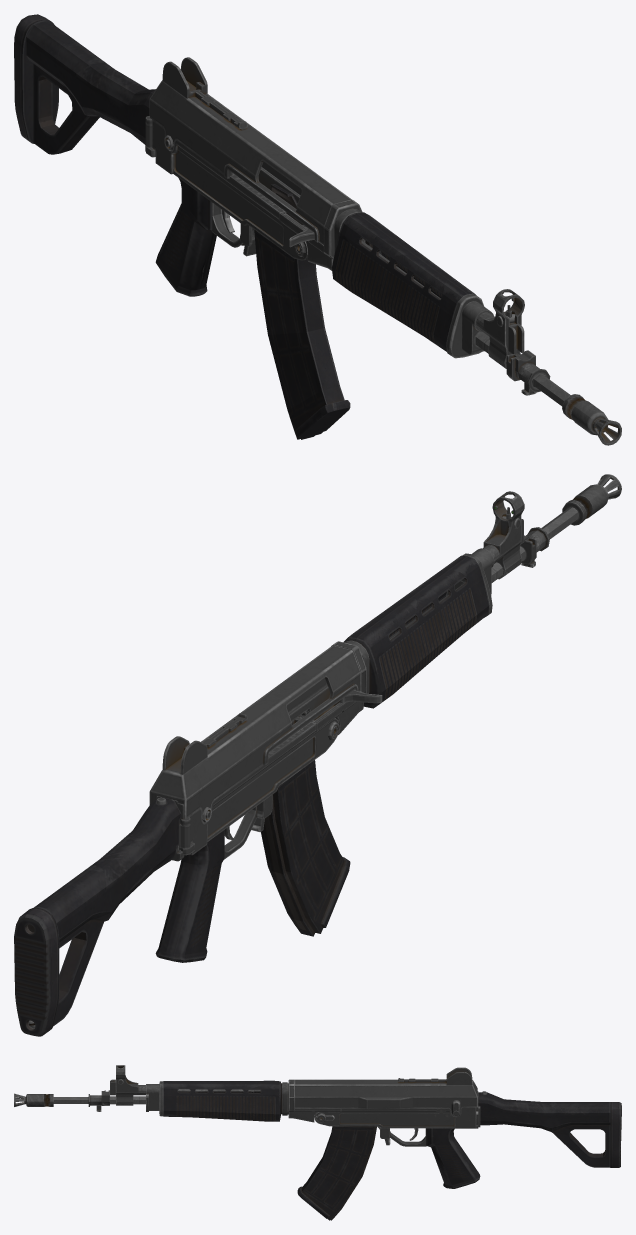
The model's file is 03式步枪.FBX.
3 renders of one model, top to bottom at view 1: azimuth 30°, elevation 25°; view 2: azimuth 150°, elevation 25°; view 3: azimuth 270°, elevation 25°, orthographic. The views are drawn at different scales.
Visible parts, largest first — view 1: 03式步枪; view 2: 03式步枪; view 3: 03式步枪.
Boxes of the visible parts, x1,y1,x2,y2 form: 03式步枪: [14, 14, 621, 445]; 03式步枪: [14, 474, 621, 1036]; 03式步枪: [14, 1065, 621, 1220].
Size of the model in its own units: 0.0627 by 0.2442 by 0.8777.
